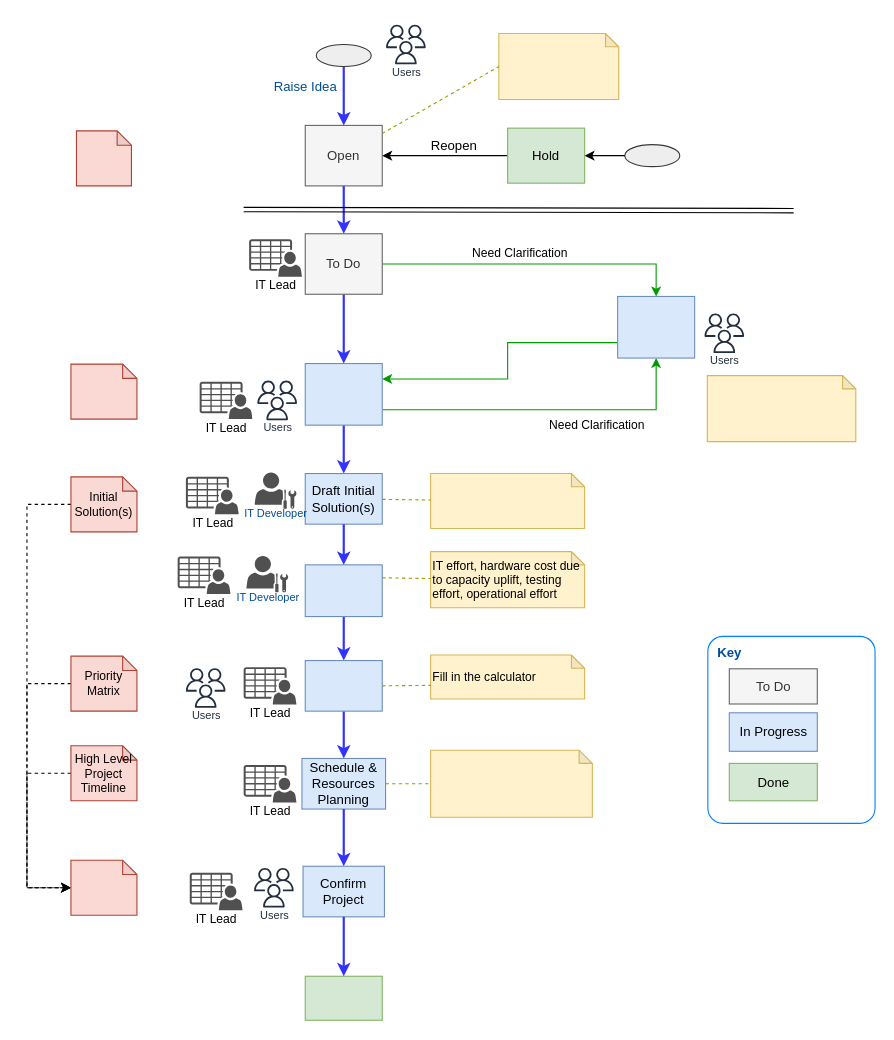
The diagram is 894 pixels wide and 1040 high, and some of its shapes have lost their labels. Here are the shapes that lost their labels. From the top down, the centre of each, then its label:
At (343,55): "Start".
At (558,66): "CCR form - change detail - justification".
At (103,158): "CCR Form".
At (652,155): "All".
At (656,326): "To Clarify".
At (103,391): "URS?".
At (343,393): "Information Gathering".
At (781,408): "Update URS as more detail user requirement is discussed".
At (507,500): "* Scope * Identified changes".
At (343,590): "High Level Estimation".
At (343,685): "Prioritize".
At (511,783): "Consider based on available resource and synergy of combing related projects".
At (103,887): "Project Charter".
At (343,997): "Committed".
